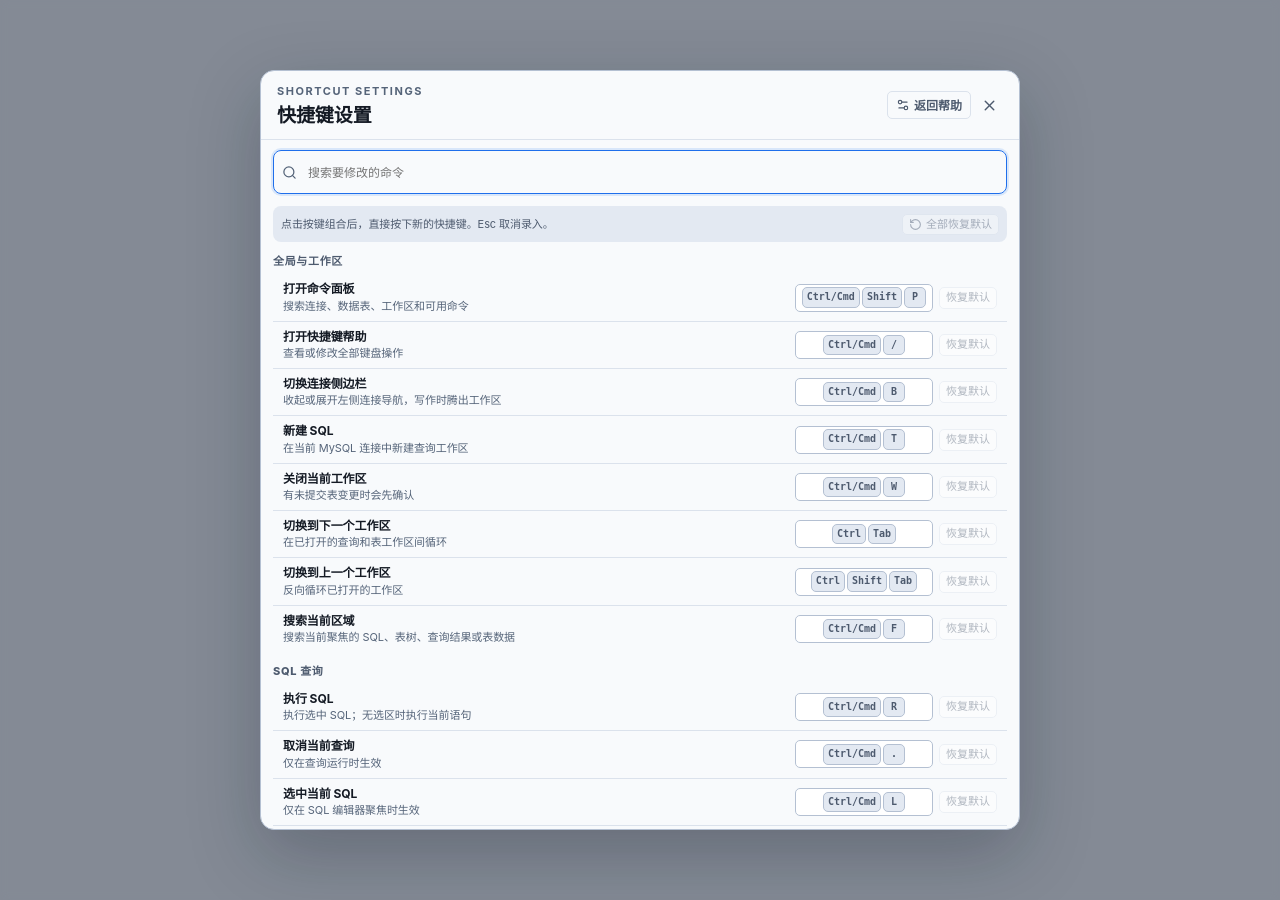
Test: ShortcutHelpDialog › explains unsafe and conflicting bindings without replacing the current value
Click the button with aria-label "修改新建 SQL": (864, 440) left=795, top=426, right=933, bottom=454
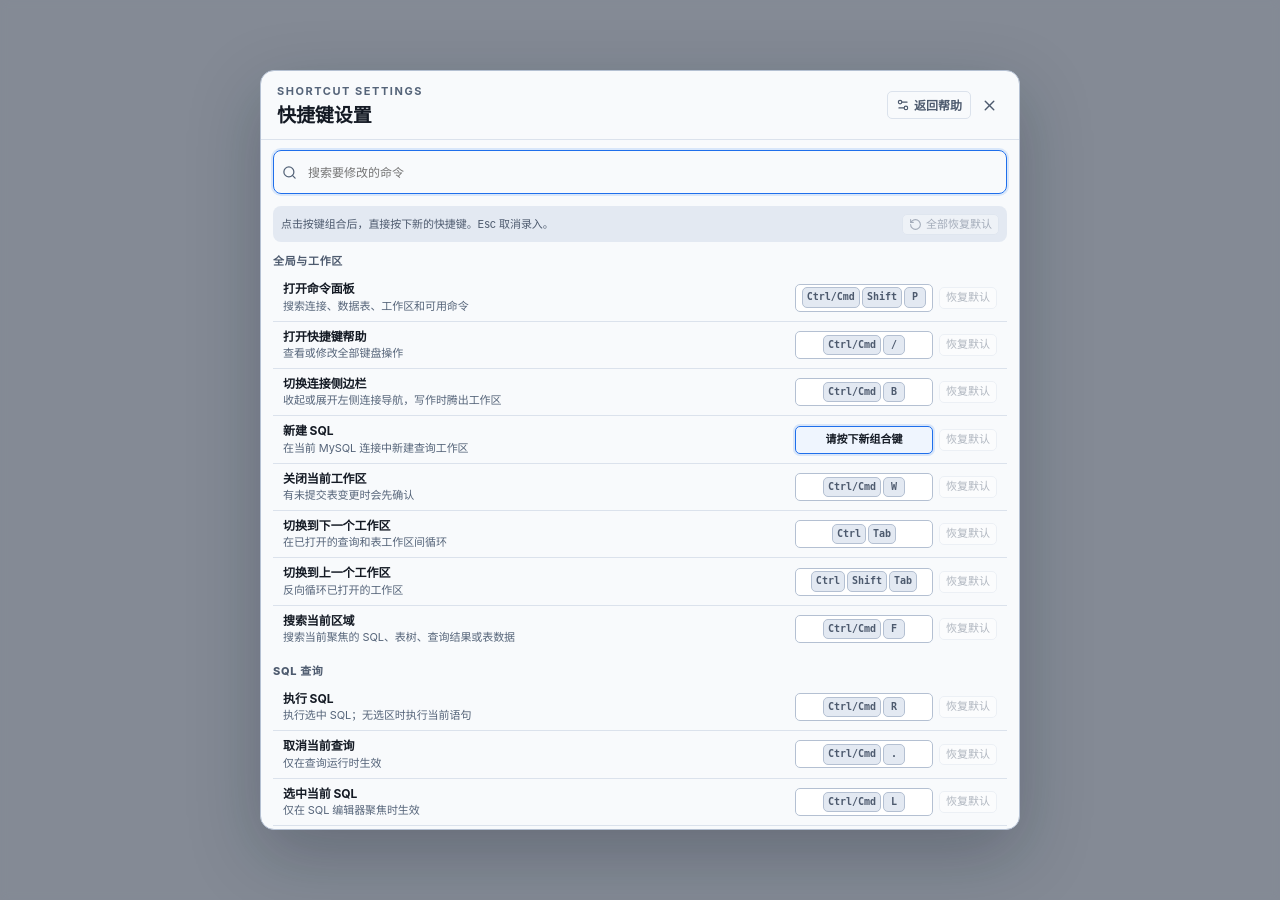
Press k
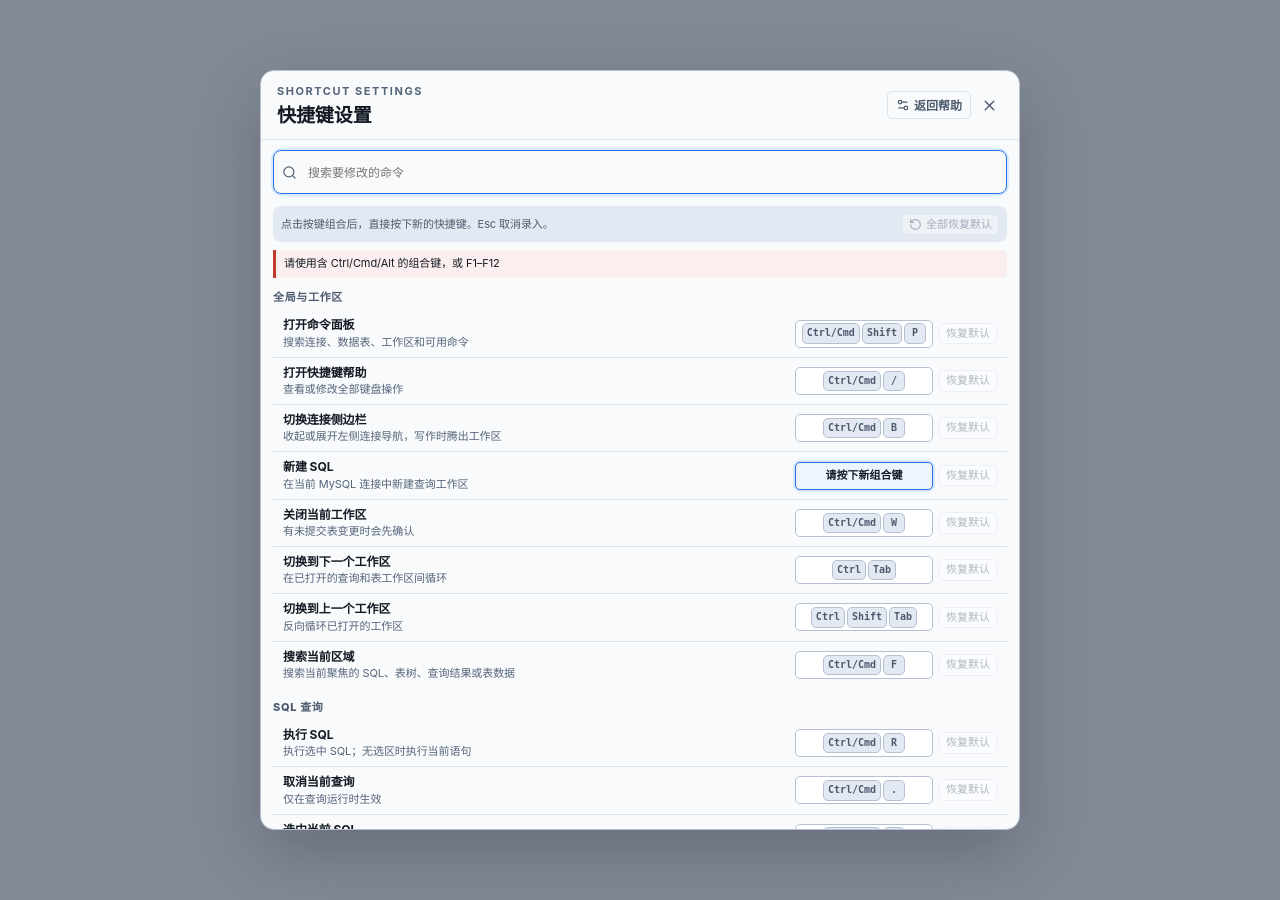
Expected: the message shows "请使用含 Ctrl/Cmd/Alt 的组合键", left=284, top=256, right=500, bottom=270
Press w
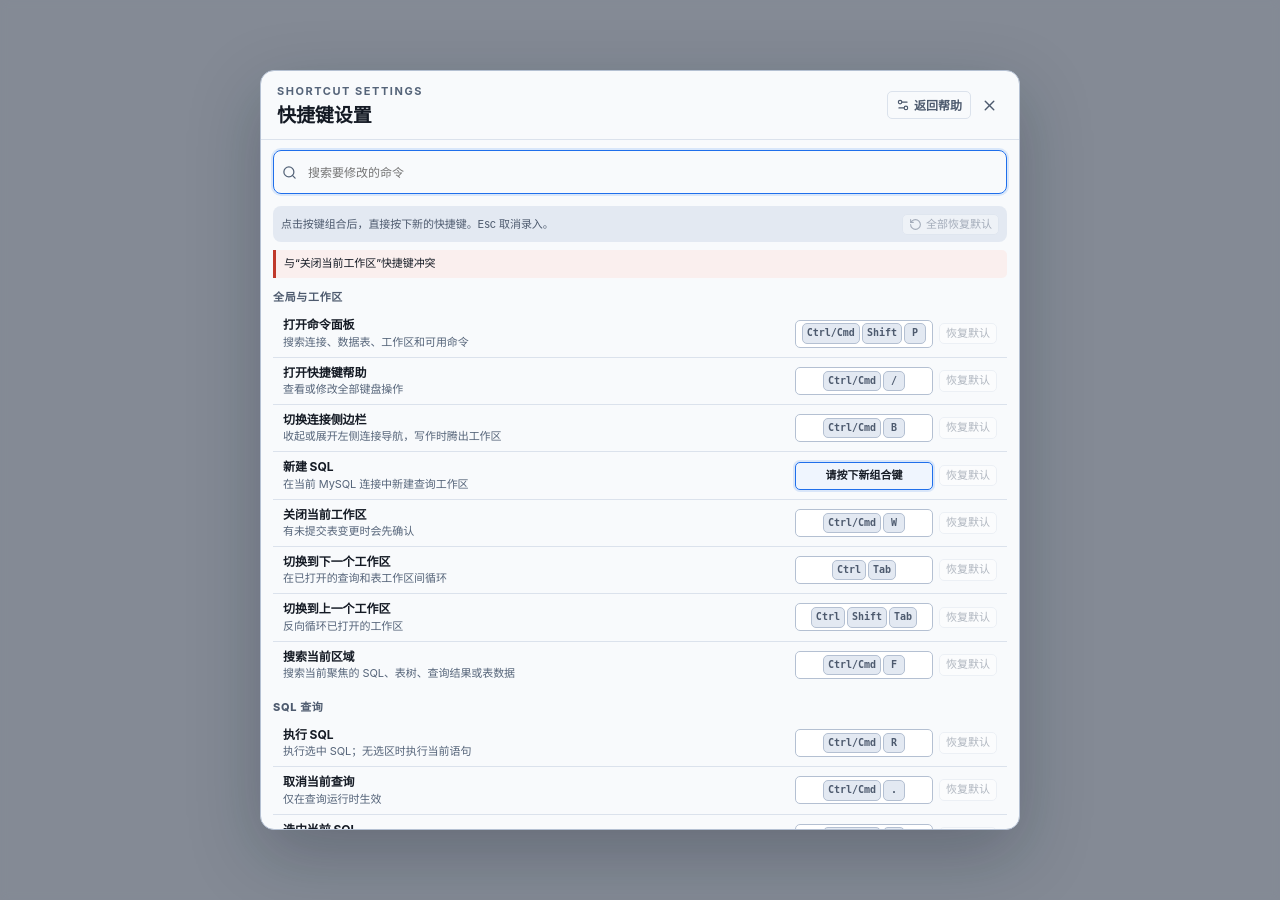
Expected: the button with aria-label "修改新建 SQL" reads "请按下新组合键", left=795, top=462, right=933, bottom=490
Expected: the message reads "与“关闭当前工作区”快捷键冲突", left=284, top=256, right=436, bottom=270
